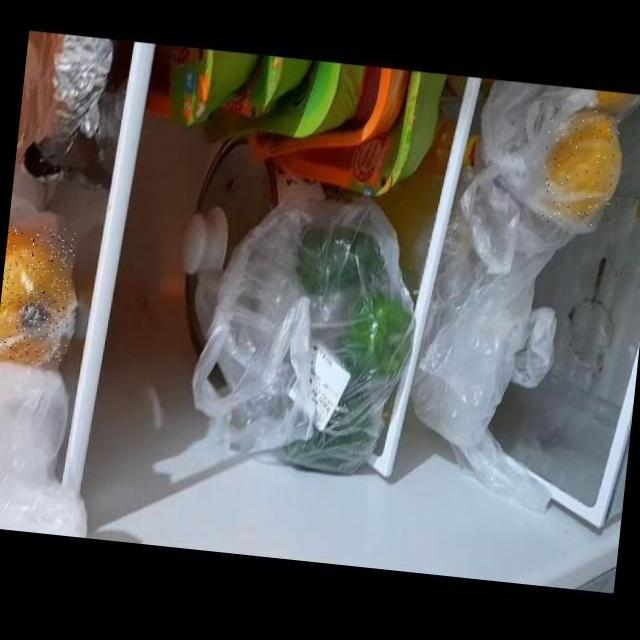Limón: (0, 221, 78, 366), (539, 105, 621, 228)
